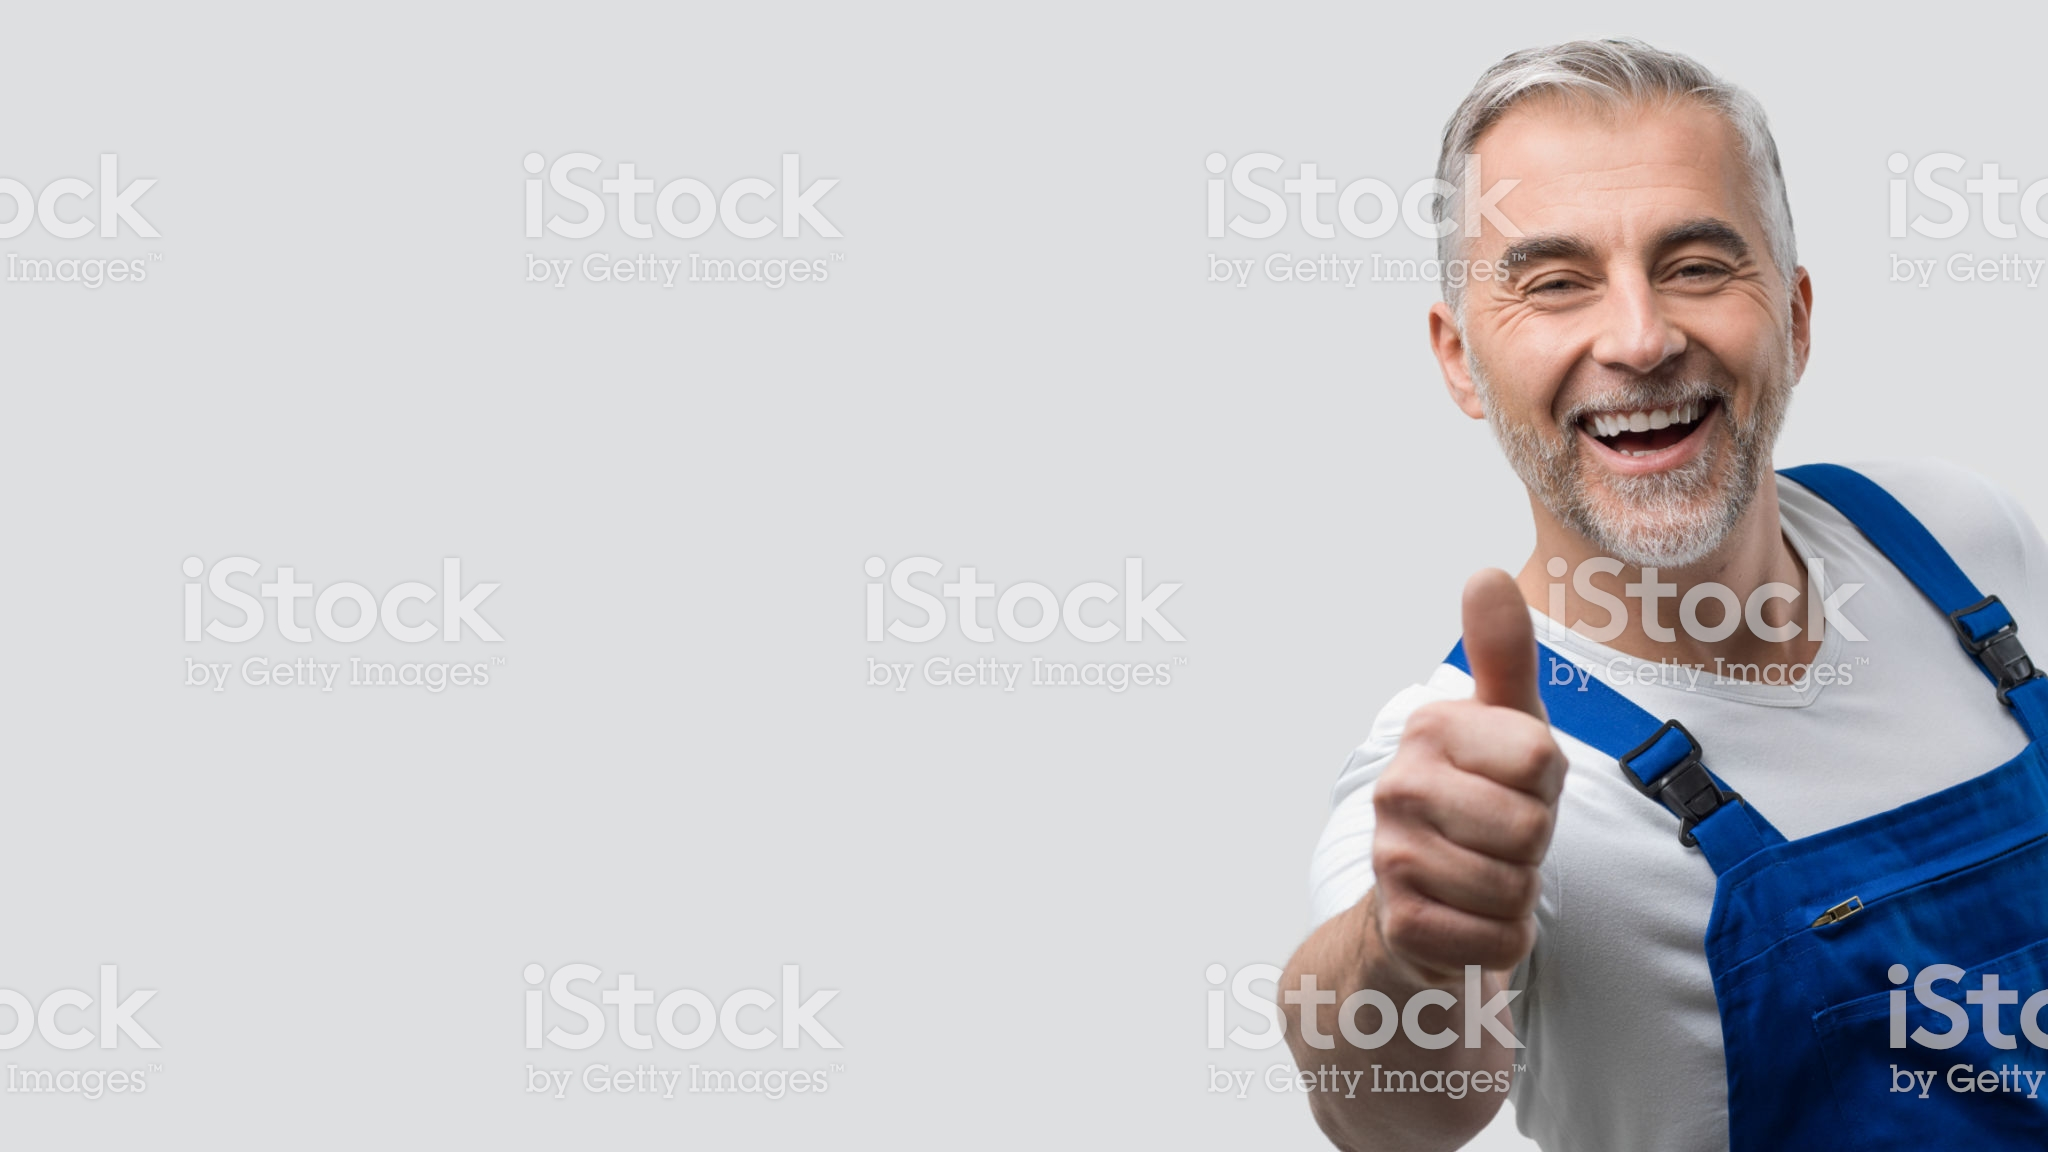thumbsup: (1369, 567, 1573, 983)
